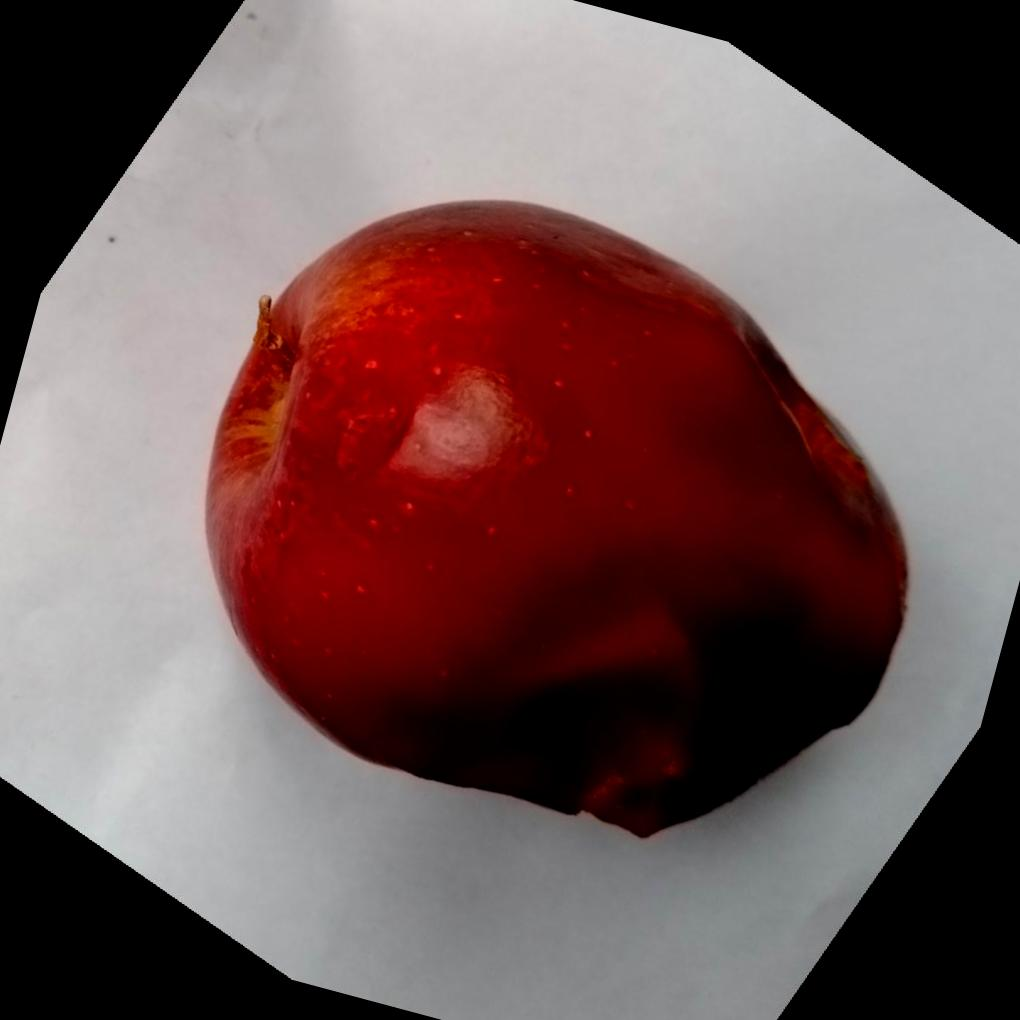FreshOrange: (204, 197, 914, 840)
